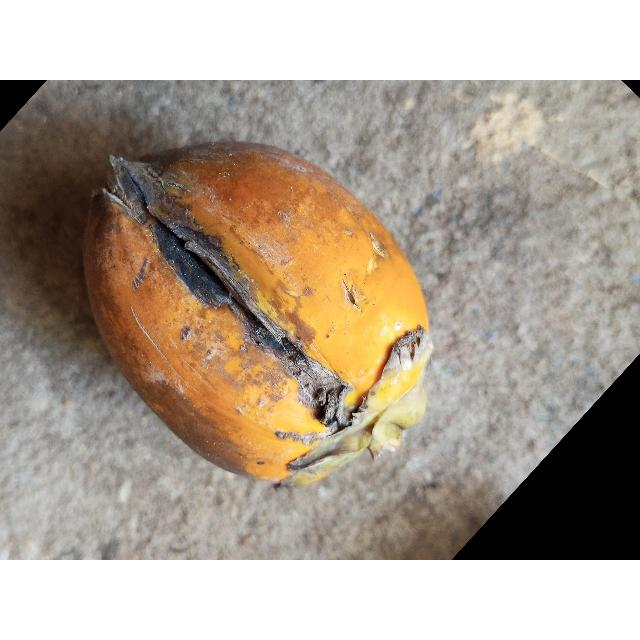damaged: (78, 142, 434, 490)
